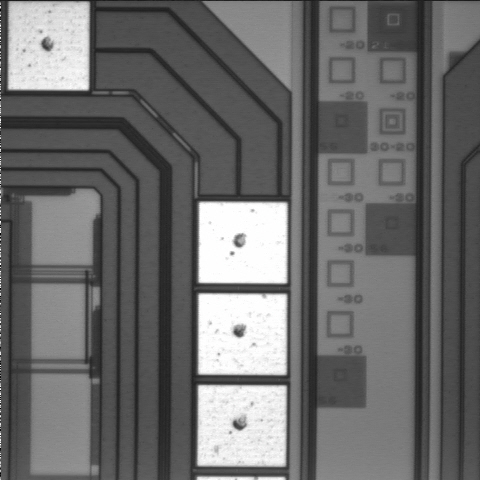pad: (198, 293, 287, 375), (197, 385, 286, 467), (198, 202, 287, 283), (8, 2, 89, 90)
